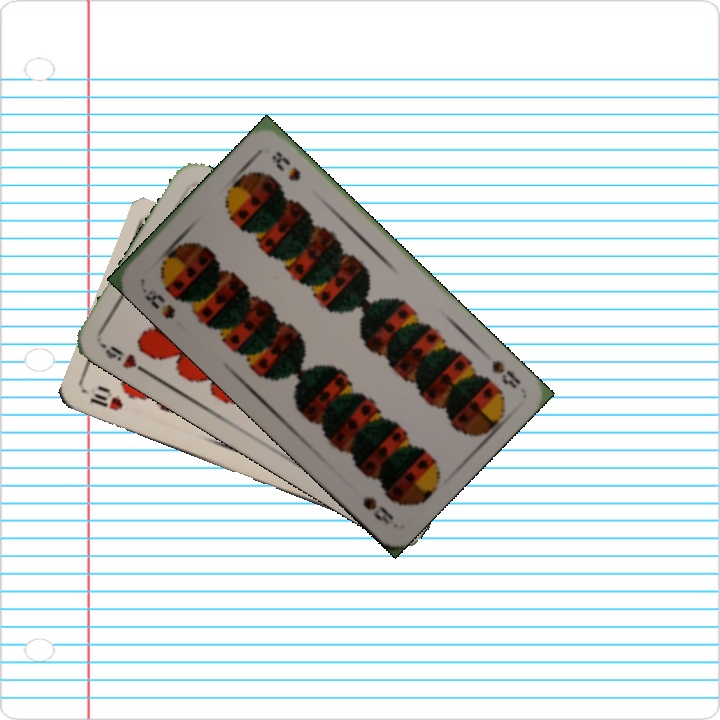H10: (86, 384, 126, 414)
H9: (98, 339, 152, 377)
S8: (137, 277, 178, 322), (487, 356, 523, 392)
